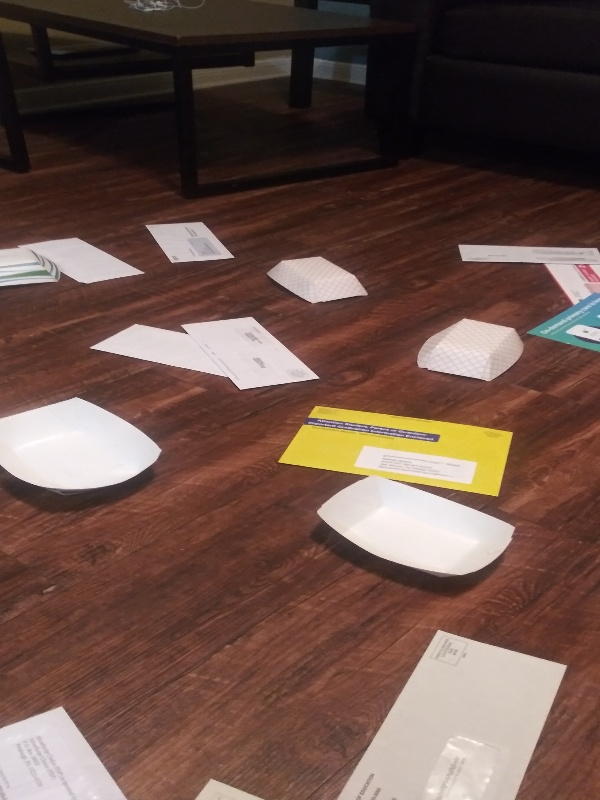plate: (317, 474, 519, 585), (1, 392, 166, 496), (414, 316, 529, 385), (262, 254, 368, 309), (1, 246, 62, 295)
